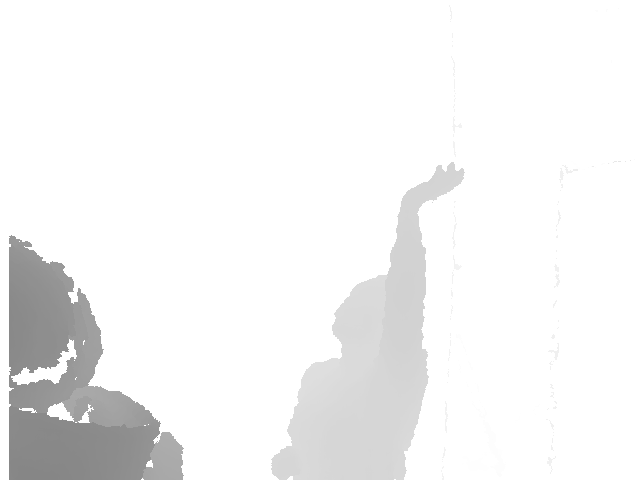hand: (401, 162, 464, 205)
head: (329, 276, 404, 365)
person: (271, 162, 465, 480)
